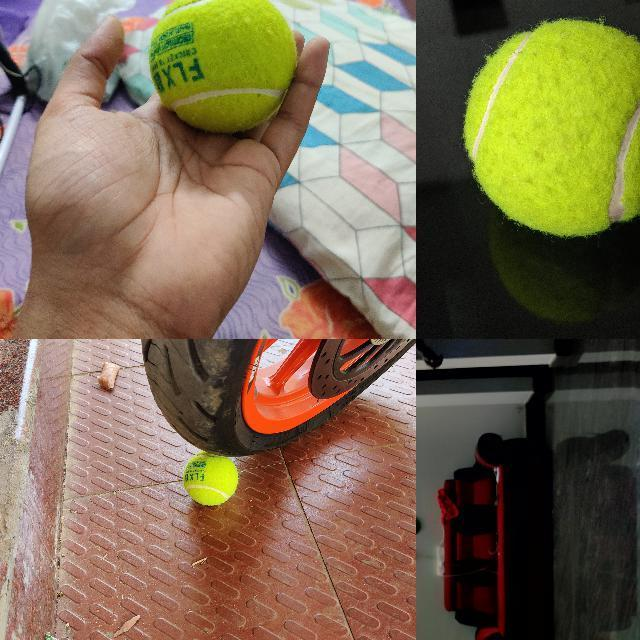tennis-ball: (460, 15, 639, 237), (148, 0, 297, 133), (183, 457, 238, 505), (416, 515, 422, 537)
